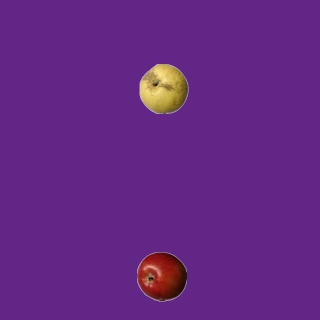Apple Braeburn: (136, 251, 186, 301)
Apple Golden 1: (138, 63, 188, 113)
